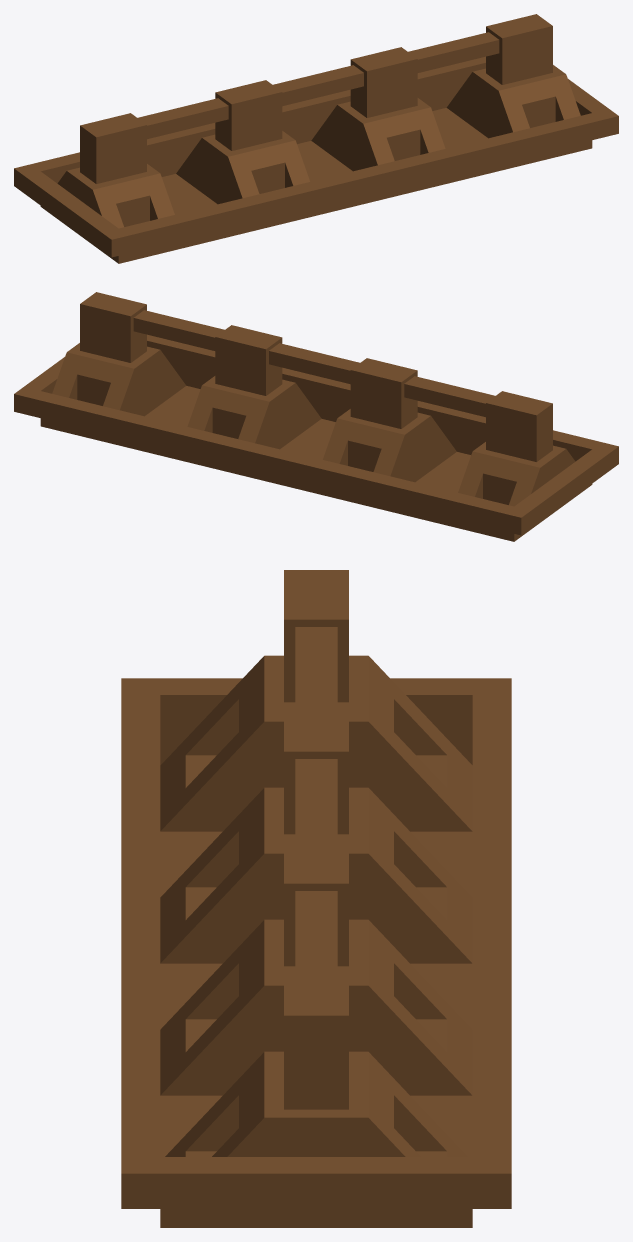
Rendered from Ceiling_B_3x1m.FBX.
3 renders of one model, top to bottom at view 1: azimuth 30°, elevation 25°; view 2: azimuth 150°, elevation 25°; view 3: azimuth 270°, elevation 25°, orthographic. The views are drawn at different scales.
Parts seen in each view (by area): view 1: Ceiling_B_3x1m; view 2: Ceiling_B_3x1m; view 3: Ceiling_B_3x1m.
Part boxes in pixels (x1,y1,x2,y2): Ceiling_B_3x1m: [14, 14, 618, 263]; Ceiling_B_3x1m: [14, 292, 618, 541]; Ceiling_B_3x1m: [121, 570, 511, 1227].
Bounding box in the file's own units: 300 × 57.57 × 100.
